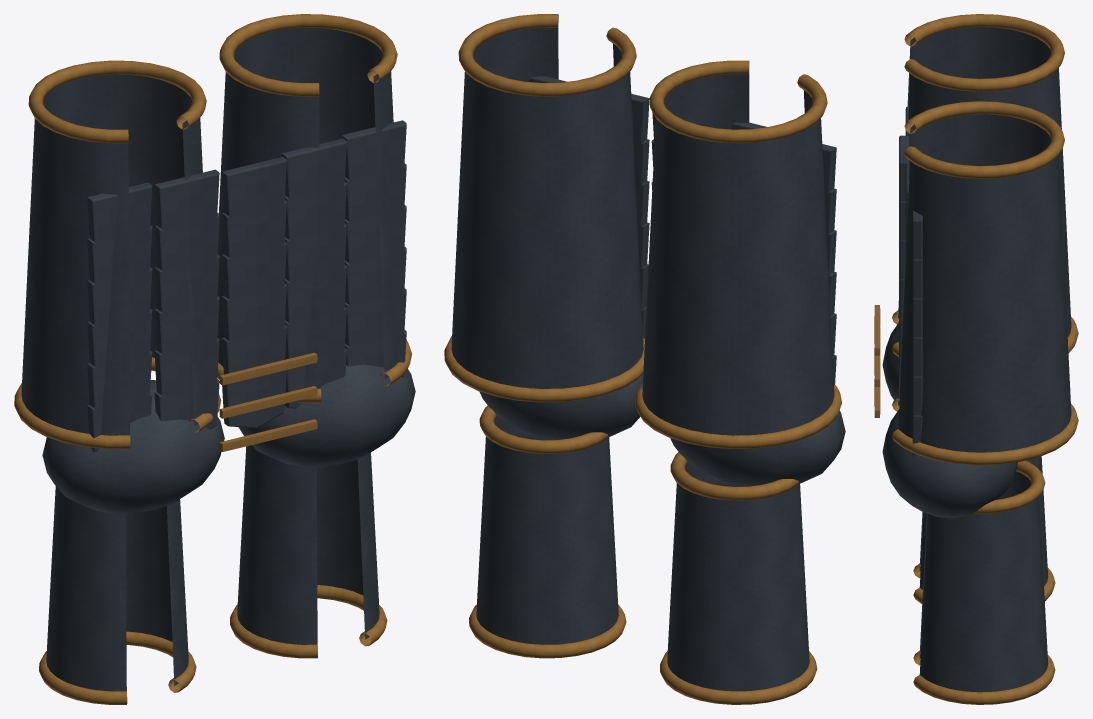
The picture shows the model from 3 angles, left to right: view 1: azimuth 30°, elevation 25°; view 2: azimuth 150°, elevation 25°; view 3: azimuth 270°, elevation 25°; orthographic projection. The views are drawn at different scales.
Visible parts, largest first — view 1: iron.0, iron.7, iron.4, iron.11, iron.3, iron.10, brass.2, brass.9, iron.15, iron.16, iron.17, iron.31 (+33 smaller); view 2: iron.0, iron.7, iron.4, iron.11, iron.3, iron.10, brass.2, brass.9, brass.1, brass.8, brass.12, brass.5 (+3 smaller); view 3: iron.7, iron.11, iron.0, iron.10, brass.2, brass.9, brass.8, brass.12, brass.13, iron.4, iron.3, iron.16 (+8 smaller).
Part boxes in pixels (x1,y1,x2,y2): iron.0: (21,74,202,435); iron.7: (217,27,398,388); iron.4: (46,486,188,691); iron.11: (237,445,379,644); iron.3: (42,380,224,513); iron.10: (238,364,415,466); brass.2: (28,60,206,143); brass.9: (219,14,397,96); iron.15: (154,169,219,231); iron.16: (221,157,286,219); iron.17: (281,138,346,200); iron.31: (221,283,286,343); iron.0: (642,69,834,435); iron.7: (451,21,643,388); iron.4: (667,463,809,691); iron.11: (476,416,618,644); iron.3: (670,410,845,486); iron.10: (479,374,643,440); brass.2: (649,60,827,143); brass.9: (458,14,636,96); brass.1: (635,382,841,448); brass.8: (444,336,644,402); brass.12: (469,604,626,658); brass.5: (660,651,817,704); iron.7: (898,114,1071,452); iron.11: (919,471,1048,692); iron.0: (898,27,1071,341); iron.10: (882,410,1017,518); brass.2: (904,14,1064,91); brass.9: (904,101,1064,178); brass.8: (892,397,1078,465); brass.12: (913,650,1055,704); brass.13: (973,460,1045,513); iron.4: (919,456,1048,589); iron.3: (882,322,898,400); iron.16: (899,135,909,201).
Bounding box in the file's own units: 0.4659 × 0.696 × 0.2375.
2 materials, 2 textured.
